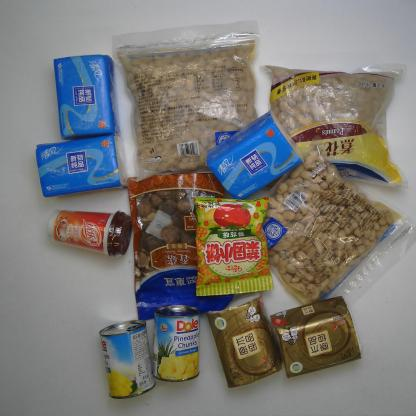Canned Food: (98, 317, 156, 402), (149, 301, 204, 384)
Dried Food: (227, 141, 416, 318), (110, 17, 269, 189), (253, 57, 415, 191), (125, 170, 238, 323)
Instant Drink: (45, 206, 131, 260)
Puffed Food: (190, 191, 274, 297)
Tissue: (204, 109, 306, 207), (268, 294, 362, 383), (203, 288, 282, 392), (34, 132, 133, 200), (53, 50, 120, 140)
